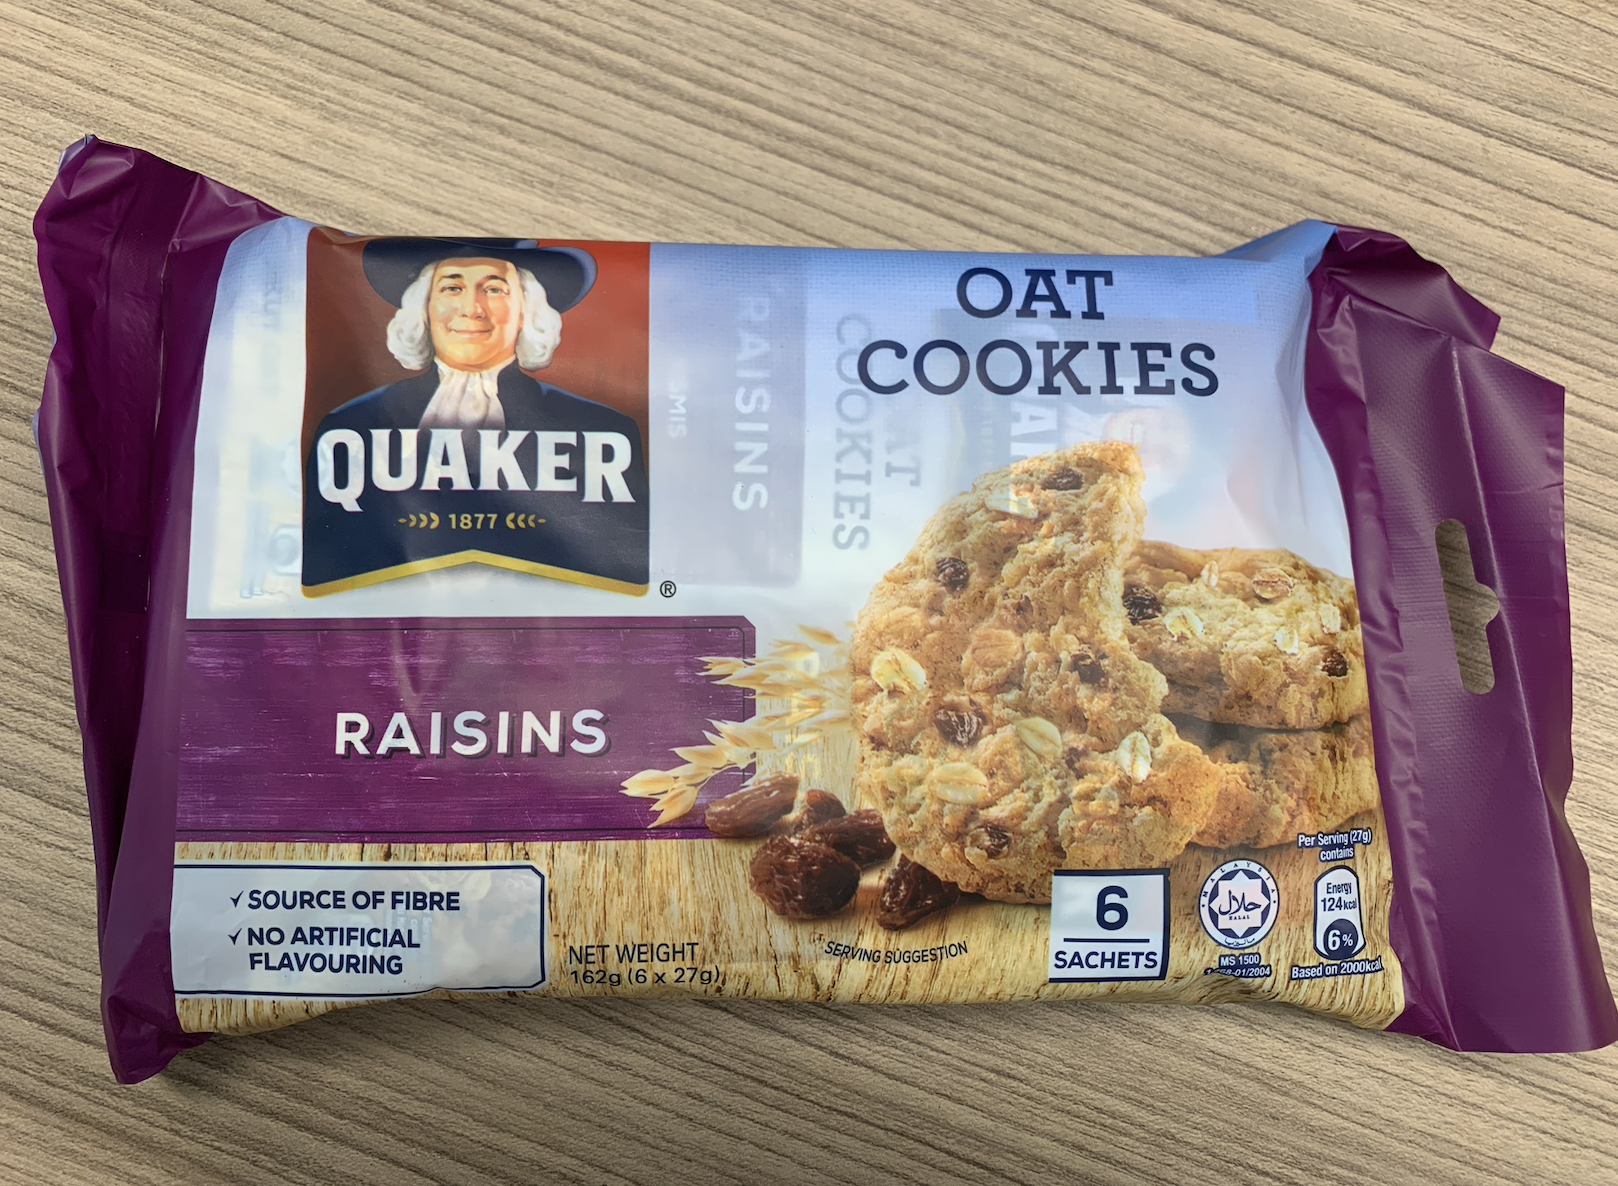cookies_150g: (155, 259, 1404, 993)
